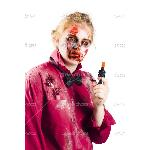Pistol: (97, 60, 109, 90)
